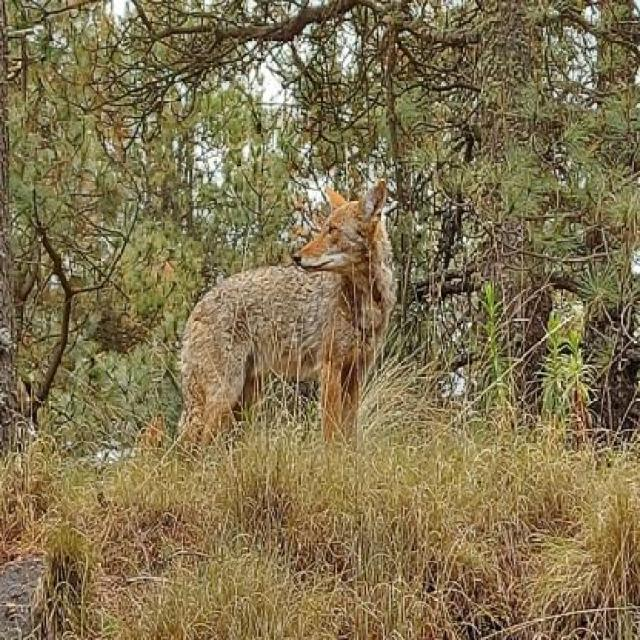Coyote: (178, 176, 399, 464)
